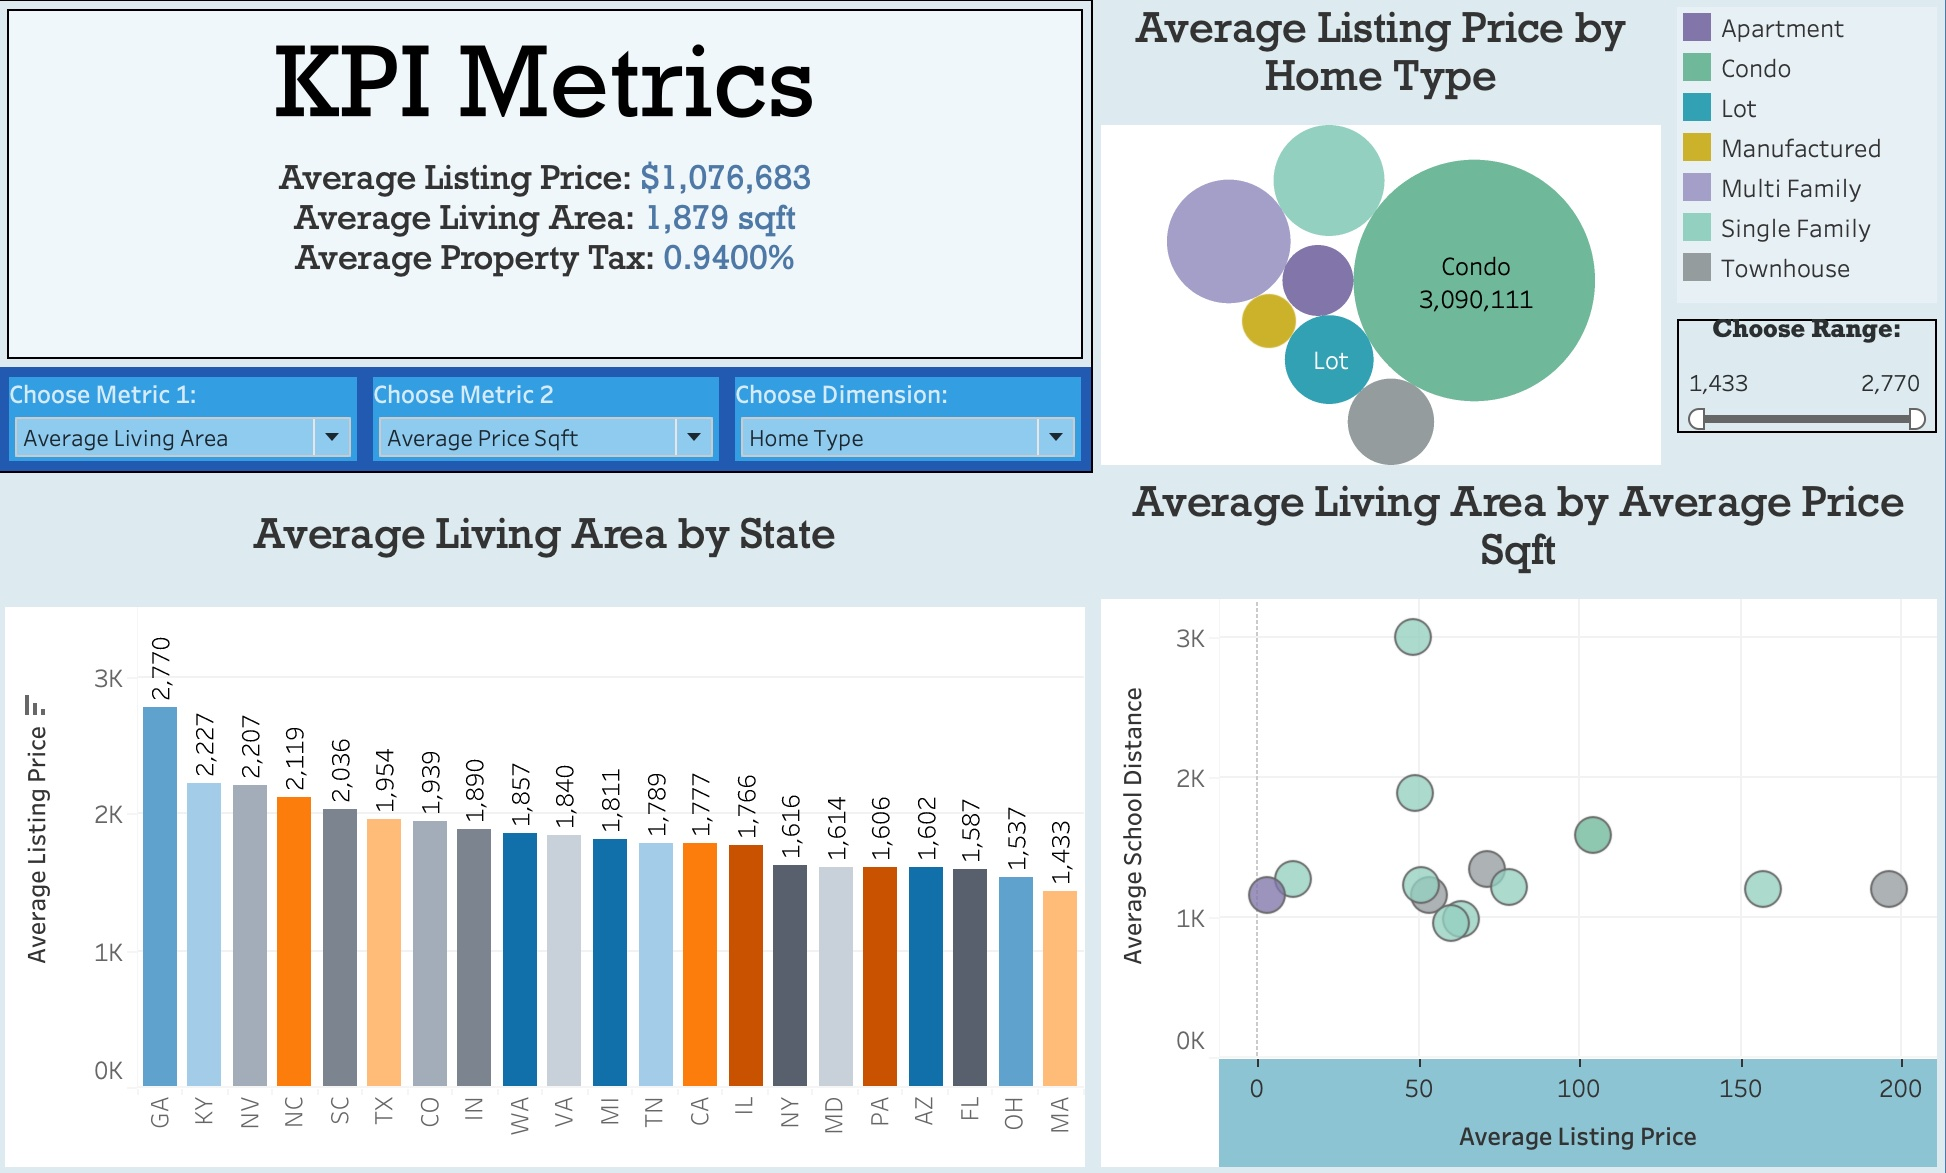

The page's visual inventory and layout, read from the dashboard file:
{"tool":"tableau","page":{"name":"KPI Metrics Dashboard","canvas":[1000,1000],"units":"permille","ordinal":1},"visuals":[{"type":"worksheet","title":"Average Price by KPI","mark":"Circle","box":[561.1,17.1,247.2,312.2]},{"type":"legend","title":"Average Price by KPI","param":"[federated.1qpubog0qv77uj1ae7io30e681gd].[none:Color By: (copy)_7557603364530626","box":[808.3,17.1,180.5,205.5]},{"type":"worksheet","title":"KPI Stats","mark":"Automatic","cols":["Calculation_819655156181123073"],"box":[12,18.4,548.2,241.1]},{"type":"filter","title":"KPI Metrics by State","param":"[federated.1qpubog0qv77uj1ae7io30e681gd].[usr:Calculation_755760336444809220:qk]","box":[808.3,222.7,180.5,85.6]},{"type":"parameter","param":"[Parameters].[Parameter 3]","box":[12.9,260.9,182.8,65.9]},{"type":"parameter","param":"[Parameters].[KPI Metrics - Horizontal (copy)_755760336447242248]","box":[195.7,260.9,182,65.9]},{"type":"parameter","param":"[Parameters].[Parameter 5]","box":[377.7,260.9,182,65.9]},{"type":"worksheet","title":"KPI Metrics by State","mark":"Automatic","rows":["Calculation_755760336444809220"],"cols":["state"],"box":[11.2,329.4,549.8,653.5]},{"type":"worksheet","title":"Comparable KPI Metrics","mark":"Circle","rows":["Calculation_755760336444809220"],"cols":["Choose Horizontal Measure (copy)_755760336446869510"],"box":[560.9,329.4,427.9,653.5]}]}

Visuals, with their boxes on the dashboard's canvas, which has no fixed pixel size, in thousandths of its width and height (x1, y1, x2, y2). These are canvas units, not pixel positions in the 1946x1173 screenshot, which may show the page scaled, cropped or inside an application window:
"Average Price by KPI" worksheet (Circle marks): box=[561, 17, 808, 329]
"Average Price by KPI" legend: box=[808, 17, 989, 223]
"KPI Stats" worksheet: box=[12, 18, 560, 260]
"KPI Metrics by State" filter: box=[808, 223, 989, 308]
parameter: box=[13, 261, 196, 327]
parameter: box=[196, 261, 378, 327]
parameter: box=[378, 261, 560, 327]
"KPI Metrics by State" worksheet: box=[11, 329, 561, 983]
"Comparable KPI Metrics" worksheet (Circle marks): box=[561, 329, 989, 983]
